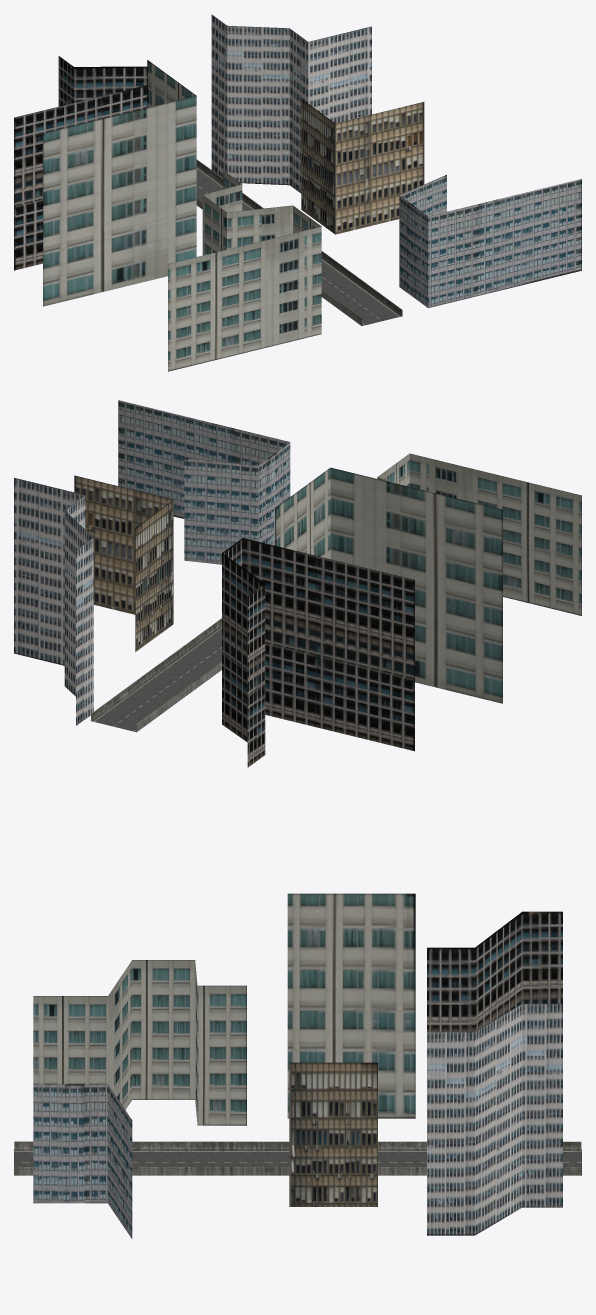
Rendered from Enviroment_assets_1.2.fbx.
3 views of the same model, one above another, from view 1: azimuth 30°, elevation 25°; view 2: azimuth 150°, elevation 25°; view 3: azimuth 270°, elevation 25° (orthographic). The views are drawn at different scales.
Visible parts, largest first — view 1: Cube.006, Road_plane, Plane.001; view 2: Cube.006, Road_plane, Plane.001, Plane.002; view 3: Cube.006, Road_plane, Plane.002, Plane.001.
Part boxes in pixels (box(x1,y1,x2,y2)): Cube.006: box(14, 14, 581, 371); Road_plane: box(196, 167, 402, 325); Plane.001: box(196, 159, 402, 316); Cube.006: box(14, 400, 581, 767); Road_plane: box(91, 626, 221, 732); Plane.001: box(91, 618, 221, 720); Plane.002: box(135, 662, 221, 731); Cube.006: box(33, 893, 562, 1238); Road_plane: box(14, 1149, 581, 1175); Plane.002: box(14, 1141, 581, 1150); Plane.001: box(14, 1167, 581, 1175).
Size of the model in its own units: 34953 by 13823 by 29994.
